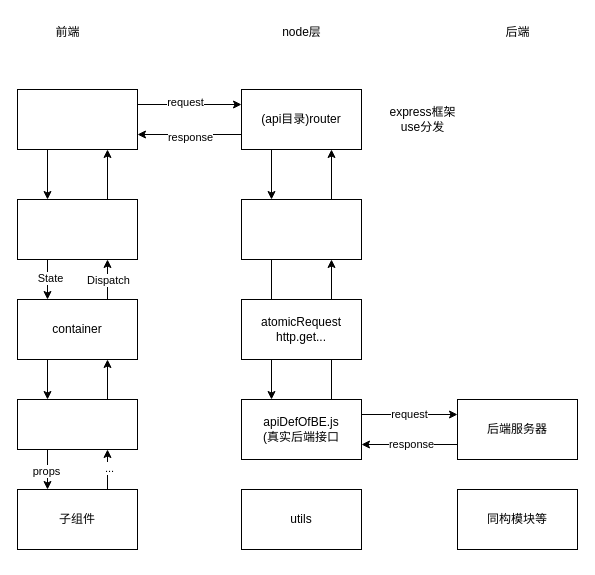
Image size: 595x575. Some labels were removed from this diagram. The box of each missing label's shape, as (x1, y1, x2, y2) in pixels:
(page目录)组件: (16, 398, 138, 450)
actions: (16, 198, 138, 260)
middle ware Reducer: (240, 198, 362, 260)
reducer: (16, 88, 138, 150)
